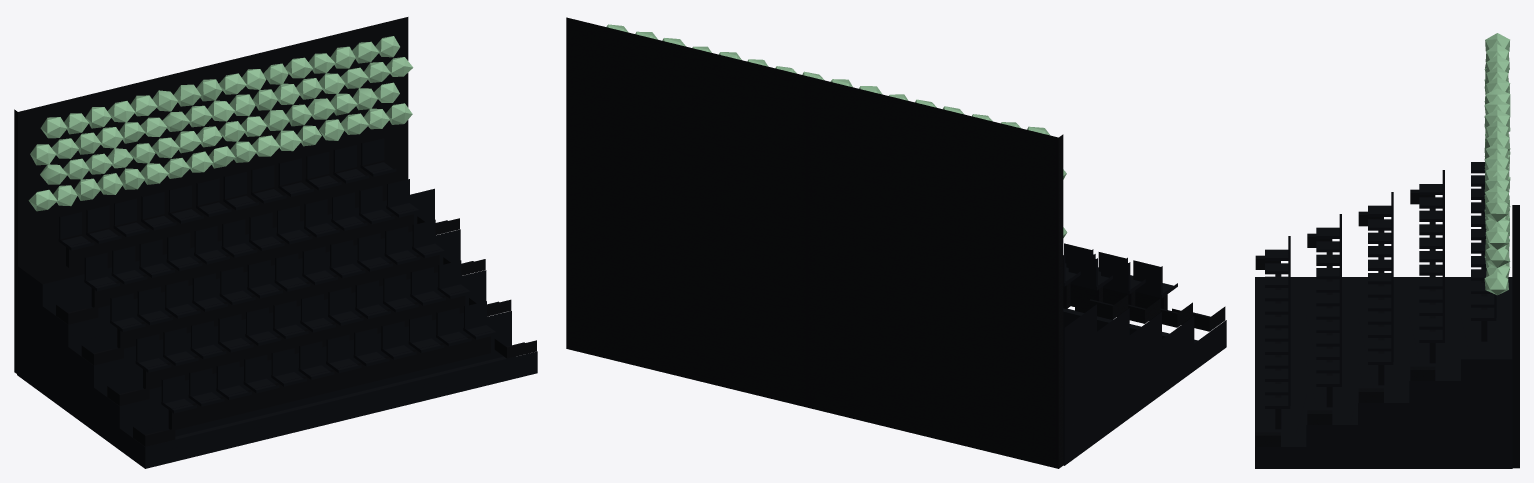
The picture shows the model from 3 angles, left to right: view 1: azimuth 30°, elevation 25°; view 2: azimuth 150°, elevation 25°; view 3: azimuth 270°, elevation 25°; orthographic projection. The views are drawn at different scales.
Parts seen in each view (by area): view 1: Tier_Concrete, Seat_Backs, Screen_Frame, Screen_Green, Seat_Beams, Seat_Pans, Aisle_Steps; view 2: Screen_Frame, Tier_Concrete, Seat_Backs, Aisle_Steps, Screen_Green, Seat_Beams, Seat_Pans; view 3: Tier_Concrete, Seat_Pans, Screen_Green, Aisle_Steps, Seat_Backs, Screen_Frame, Seat_Beams.
Boxes of the visible parts, x1,y1,x2,y2 form: Tier_Concrete: [17, 188, 537, 468]; Seat_Backs: [59, 138, 486, 401]; Screen_Frame: [14, 17, 408, 373]; Screen_Green: [28, 36, 413, 211]; Seat_Beams: [66, 168, 490, 429]; Seat_Pans: [58, 162, 499, 413]; Aisle_Steps: [56, 216, 536, 446]; Screen_Frame: [566, 17, 1063, 468]; Tier_Concrete: [1063, 304, 1226, 465]; Seat_Backs: [1063, 243, 1162, 294]; Aisle_Steps: [1075, 295, 1225, 331]; Screen_Green: [606, 24, 1067, 237]; Seat_Beams: [1063, 278, 1167, 309]; Seat_Pans: [1063, 263, 1177, 298]; Tier_Concrete: [1255, 277, 1512, 468]; Seat_Pans: [1265, 162, 1496, 408]; Screen_Green: [1484, 33, 1510, 295]; Aisle_Steps: [1255, 189, 1435, 446]; Seat_Backs: [1288, 170, 1496, 405]; Screen_Frame: [1512, 205, 1519, 468]; Seat_Beams: [1275, 186, 1487, 429].
Size of the model in its own units: 7.5 by 4.8 by 4.37.
Materials: 3 (2 with a texture image).
